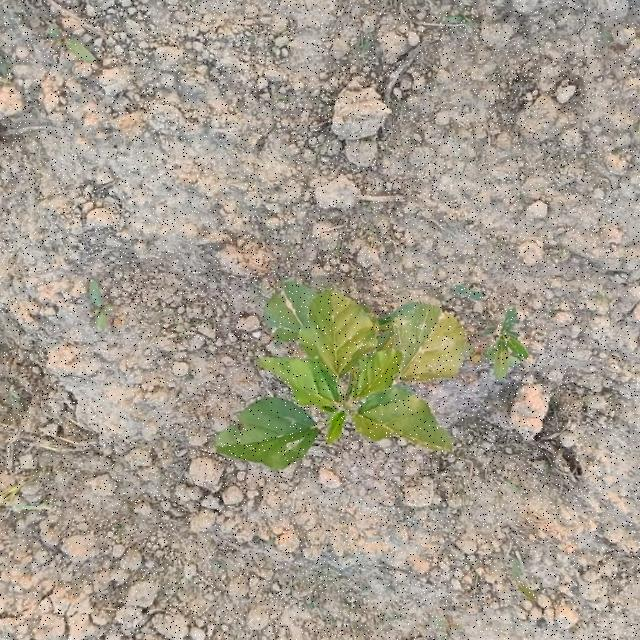weed: (216, 283, 467, 470)
